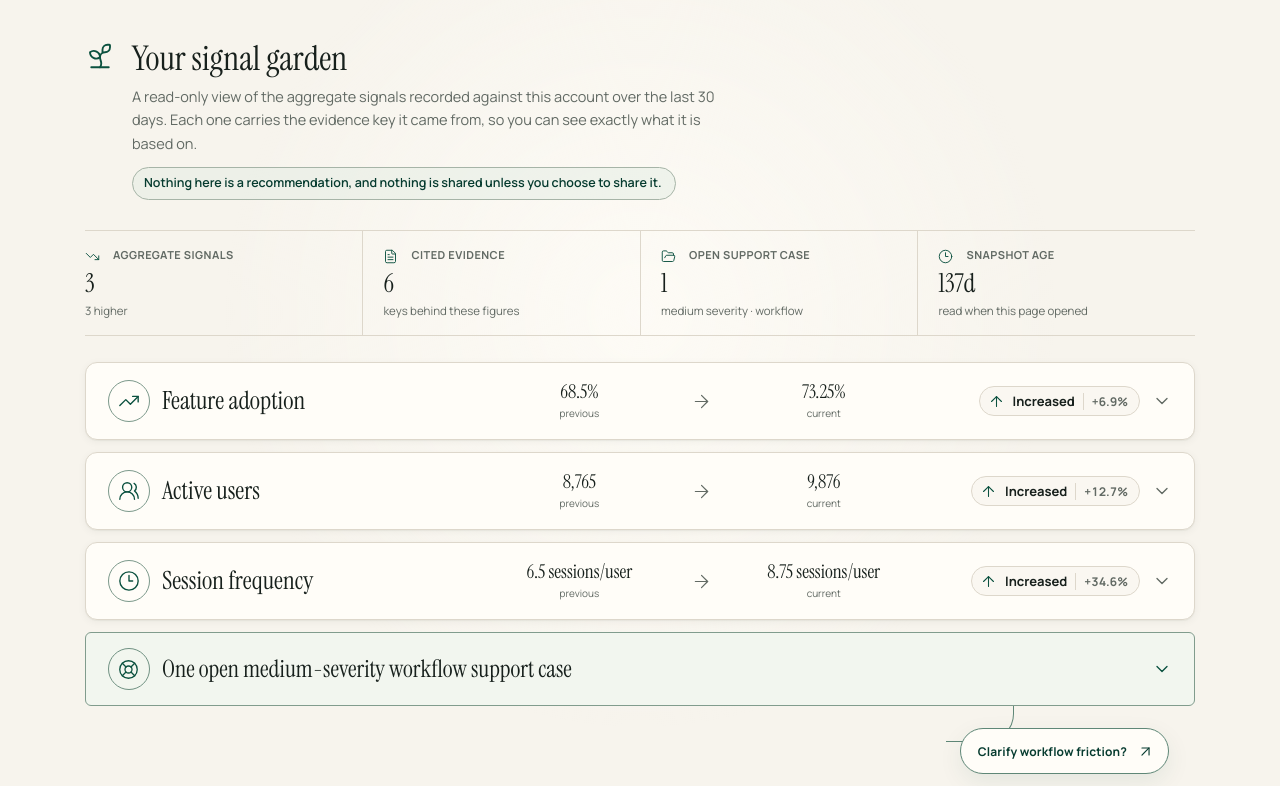
Scenario: Signal Garden canvas › keeps Not now side-effect free and allows an empty optional observation
Click the button "Clarify workflow friction?": (1064, 751) top-left (960, 728), bottom-right (1169, 774)
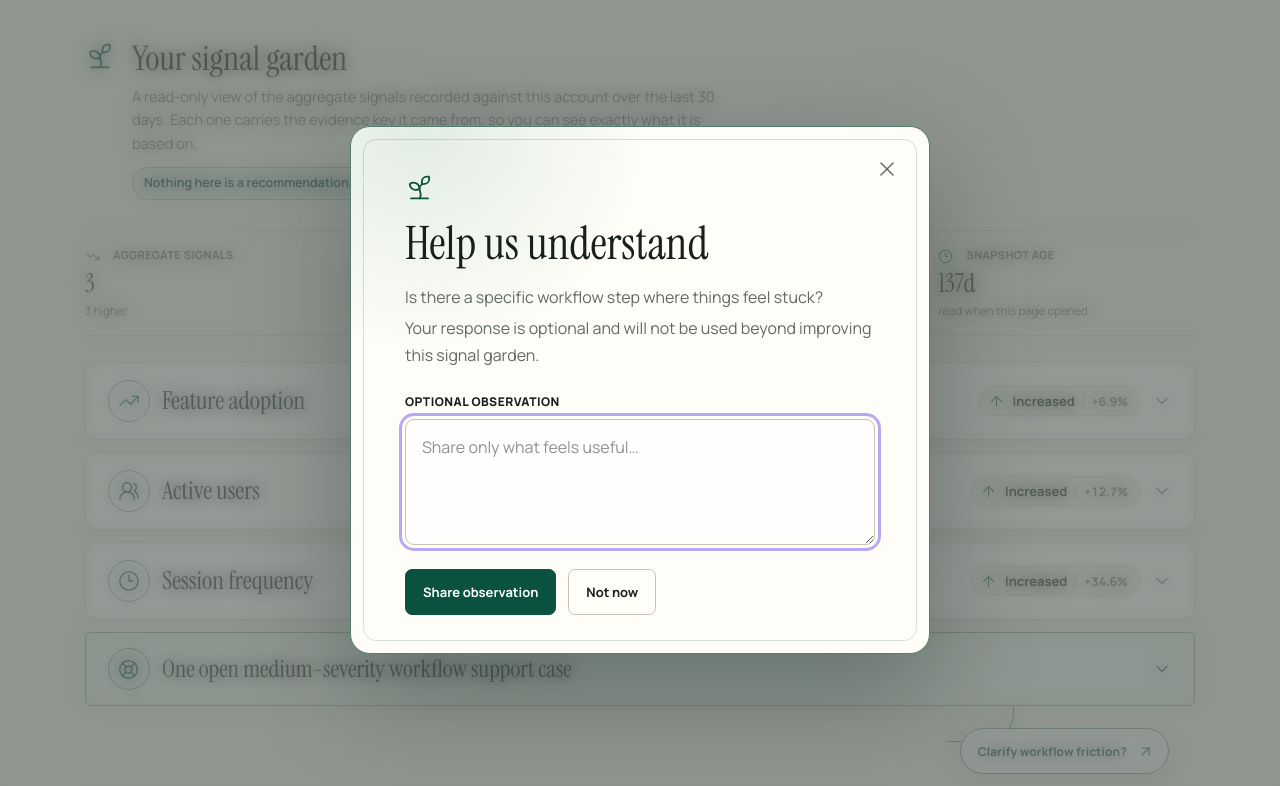
Click the button "Not now": (612, 592) top-left (568, 569), bottom-right (656, 615)
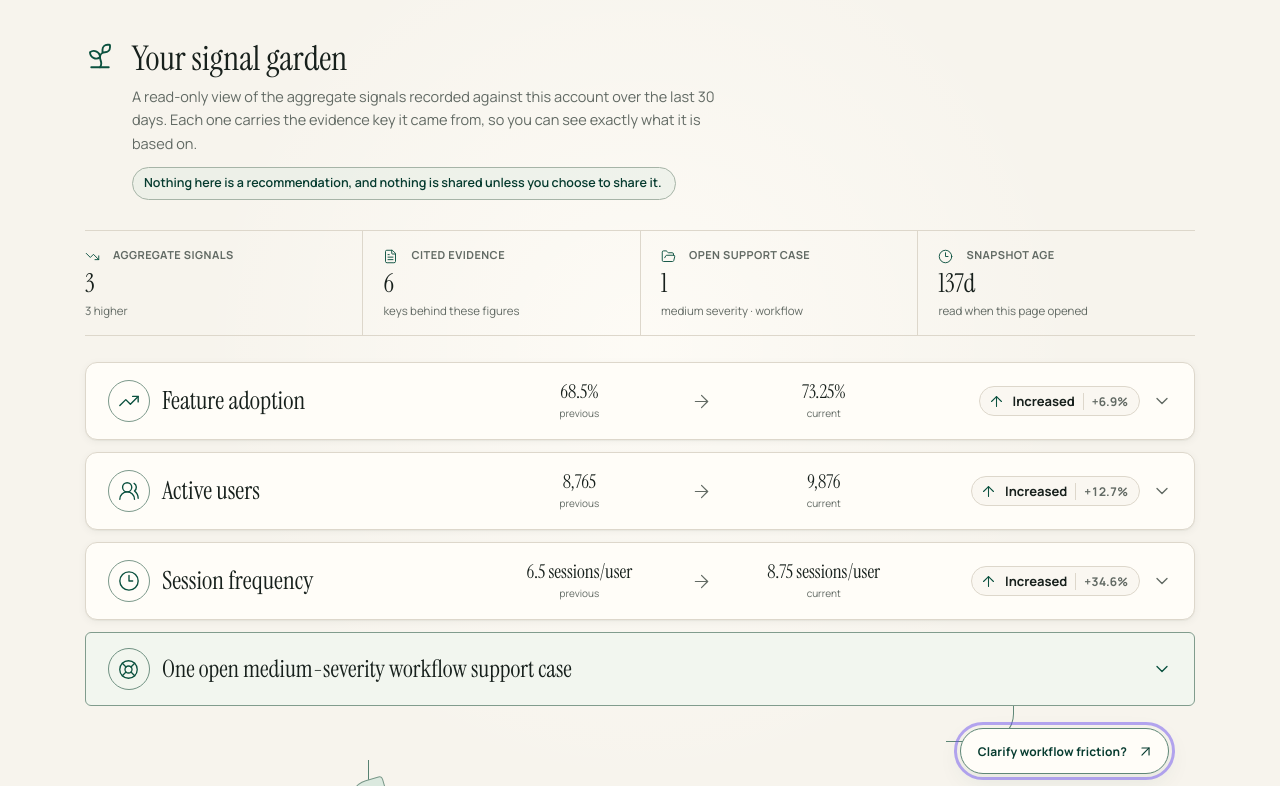
Click the button "Clarify workflow friction?": (1064, 751) top-left (960, 728), bottom-right (1169, 774)
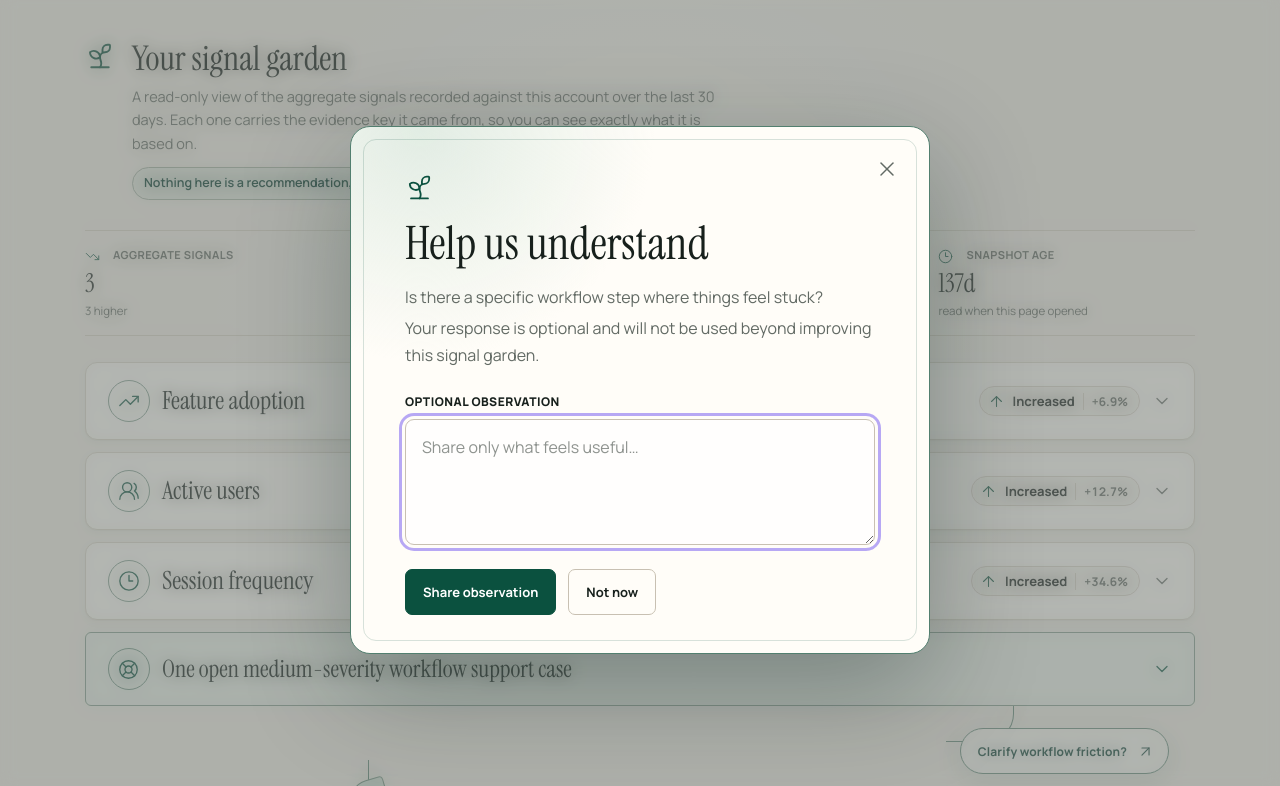
Click the button "Share observation": (481, 592) top-left (405, 569), bottom-right (556, 615)
(page scrolled)
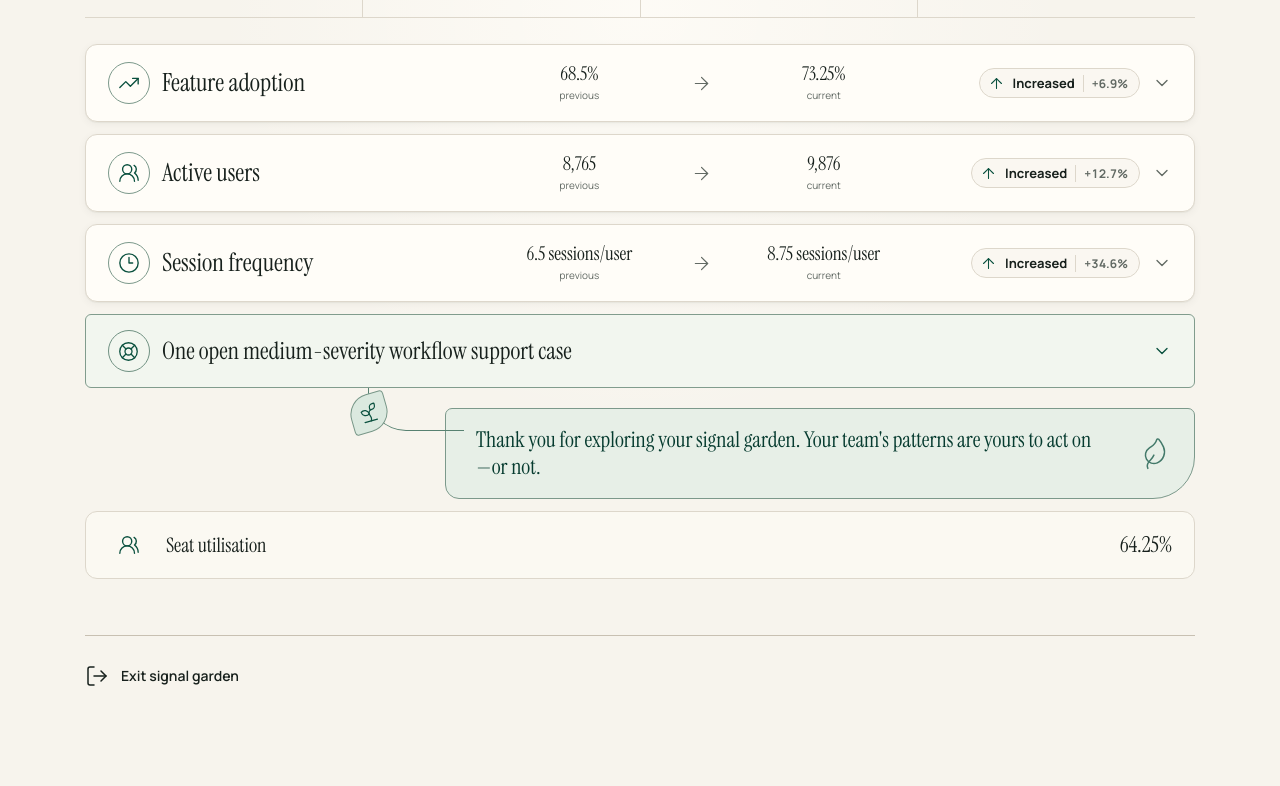
Expected: the button "Clarify workflow friction?" is gone
